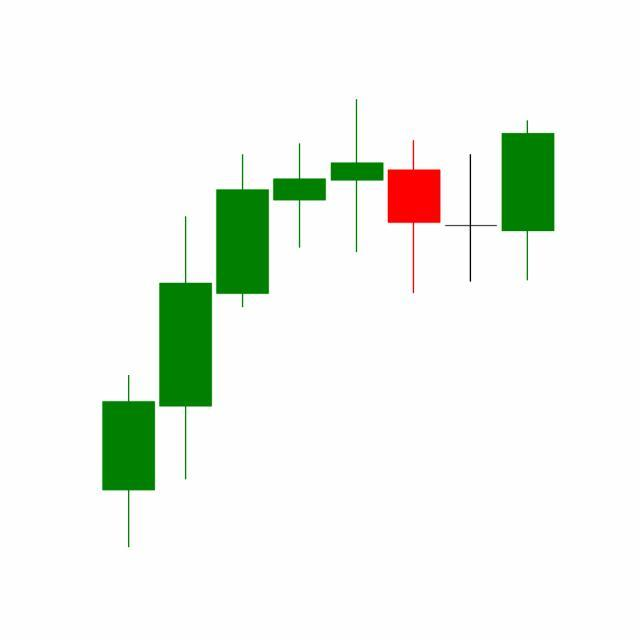Hikkake Pattern: (270, 100, 555, 298)
